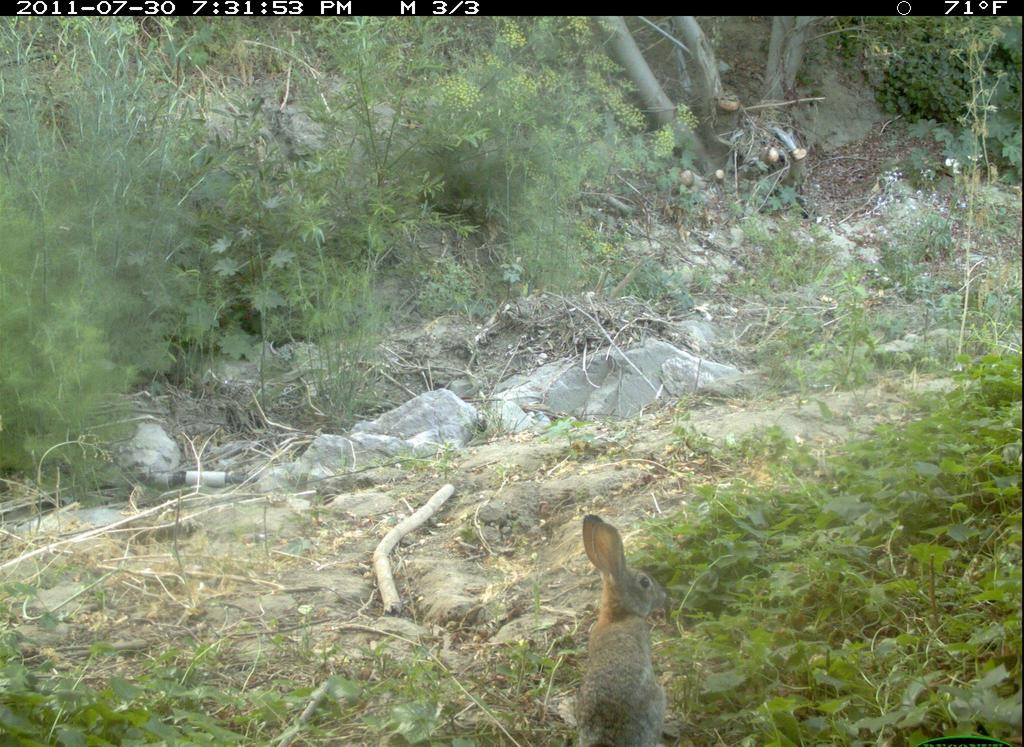rabbit: (561, 513, 675, 744)
